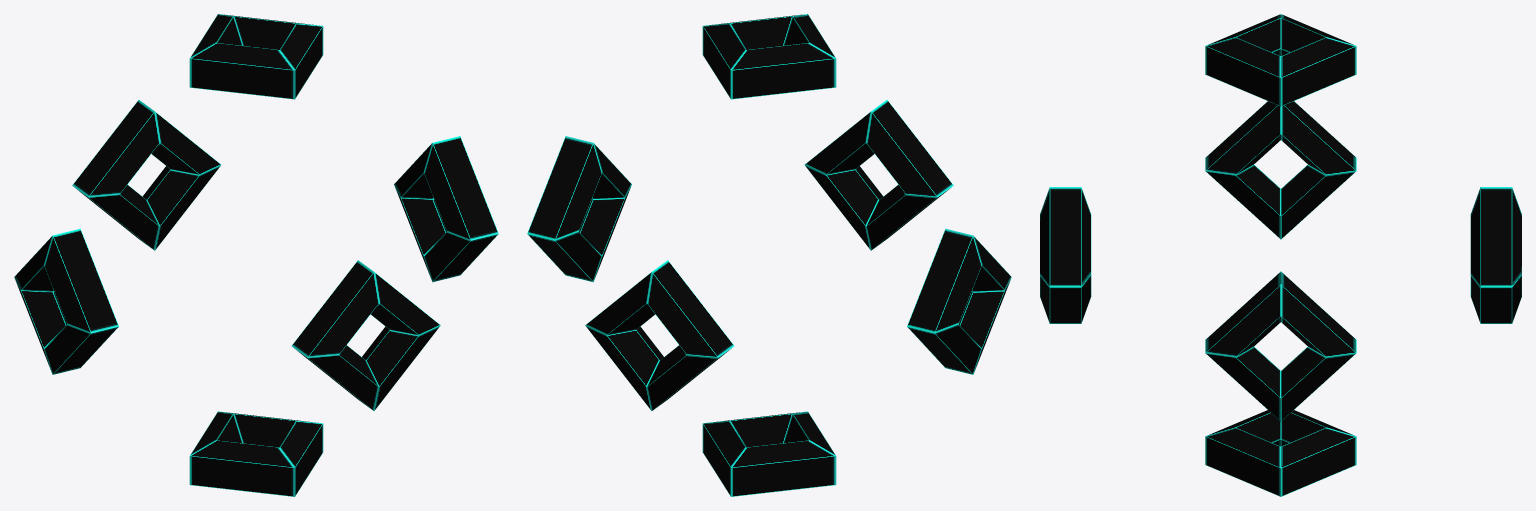
File: BUGSFIX.fbx
3 views of the same model, side by side, from view 1: azimuth 30°, elevation 25°; view 2: azimuth 150°, elevation 25°; view 3: azimuth 270°, elevation 25° (orthographic).
Parts seen in each view (by area): view 1: polySurface14, polySurface17, polySurface15, polySurface16, polySurface13, polySurface18; view 2: polySurface14, polySurface17, polySurface15, polySurface16, polySurface13, polySurface18; view 3: polySurface15, polySurface16, polySurface18, polySurface13, polySurface14, polySurface17.
Part boxes in pixels (x1=…): polySurface14: x1=72, y1=100, x2=221, y2=250; polySurface17: x1=291, y1=260, x2=440, y2=410; polySurface15: x1=394, y1=136, x2=498, y2=282; polySurface16: x1=14, y1=228, x2=118, y2=374; polySurface13: x1=189, y1=411, x2=323, y2=496; polySurface18: x1=189, y1=14, x2=323, y2=99; polySurface14: x1=585, y1=260, x2=734, y2=410; polySurface17: x1=804, y1=100, x2=953, y2=250; polySurface15: x1=527, y1=136, x2=631, y2=282; polySurface16: x1=907, y1=228, x2=1011, y2=374; polySurface13: x1=702, y1=411, x2=836, y2=496; polySurface18: x1=702, y1=14, x2=836, y2=99; polySurface15: x1=1205, y1=271, x2=1356, y2=421; polySurface16: x1=1205, y1=101, x2=1356, y2=239; polySurface18: x1=1205, y1=14, x2=1356, y2=106; polySurface13: x1=1205, y1=410, x2=1356, y2=496; polySurface14: x1=1470, y1=187, x2=1521, y2=323; polySurface17: x1=1040, y1=187, x2=1091, y2=323.
Size of the model in its own units: 8.95 by 8.95 by 8.95.
